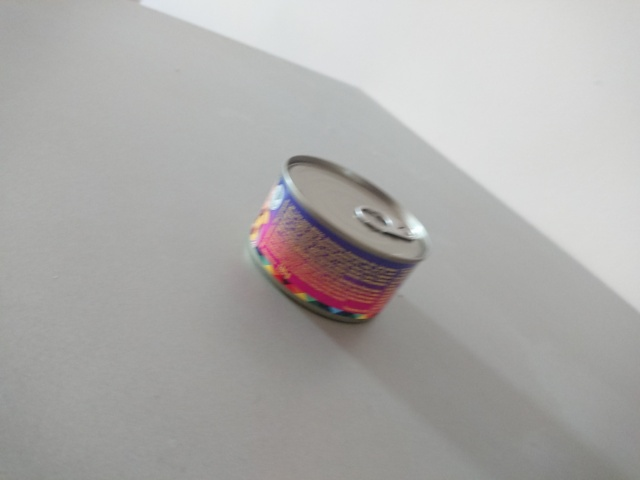Giana Tuna Salad Mexico 185g: (245, 152, 432, 330)
